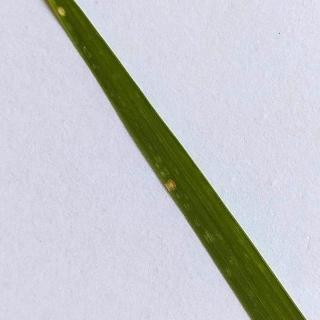Blast: (162, 159, 188, 217), (48, 2, 83, 36)
